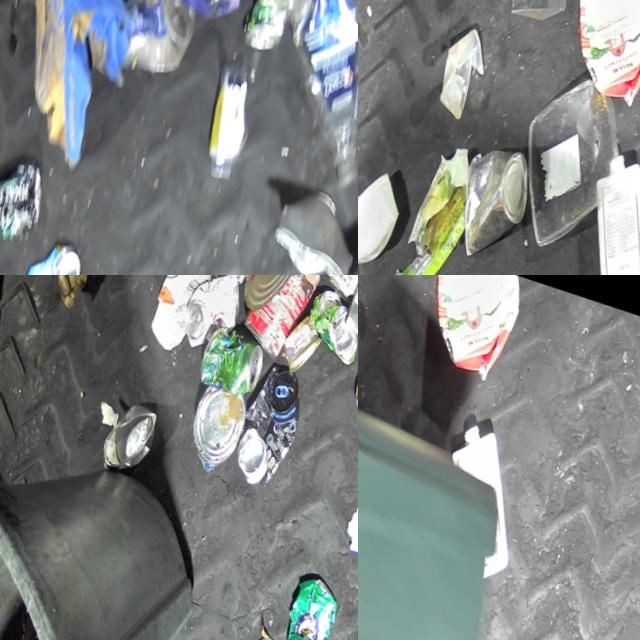can: (442, 133, 538, 267), (221, 353, 309, 492), (229, 275, 329, 363), (175, 376, 249, 476), (192, 317, 268, 398), (172, 275, 248, 356), (91, 393, 159, 481), (265, 564, 340, 640), (296, 278, 358, 360), (3, 220, 93, 275), (231, 0, 297, 57), (273, 303, 325, 373), (233, 275, 316, 316), (341, 336, 358, 434), (235, 627, 277, 640)
milk_jug: (555, 136, 640, 275)
non_white_jug: (402, 275, 527, 384), (544, 0, 640, 113)
